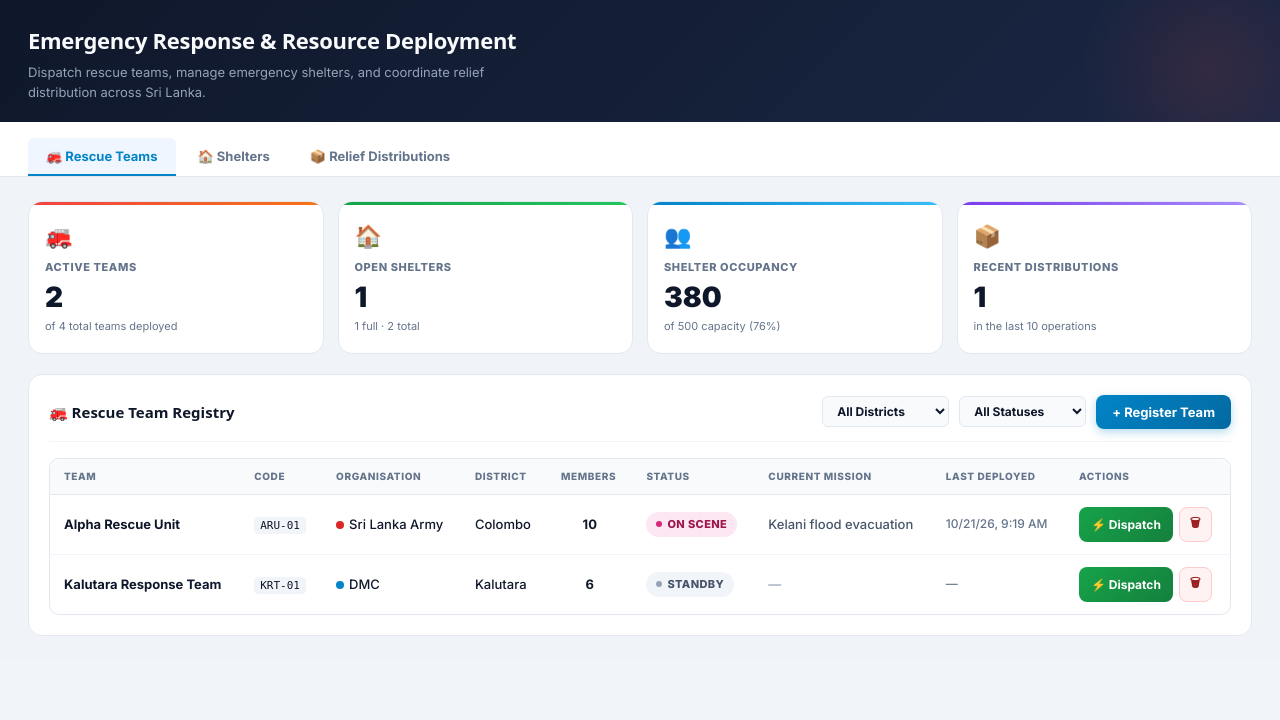
Test: EmergencyCoordinationDashboard – Filters & Empty States › TC-EC-13: Filter by district hides non-matching teams
This screenshot has width=1280, height=720.
Check: the text "Alpha Rescue Unit" is shown, box [50,494,240,554]
# Select a district that only one team belongs to
Step 1. Select "Colombo" in the 1st dropdown → (886, 412), box [822,396,949,427]
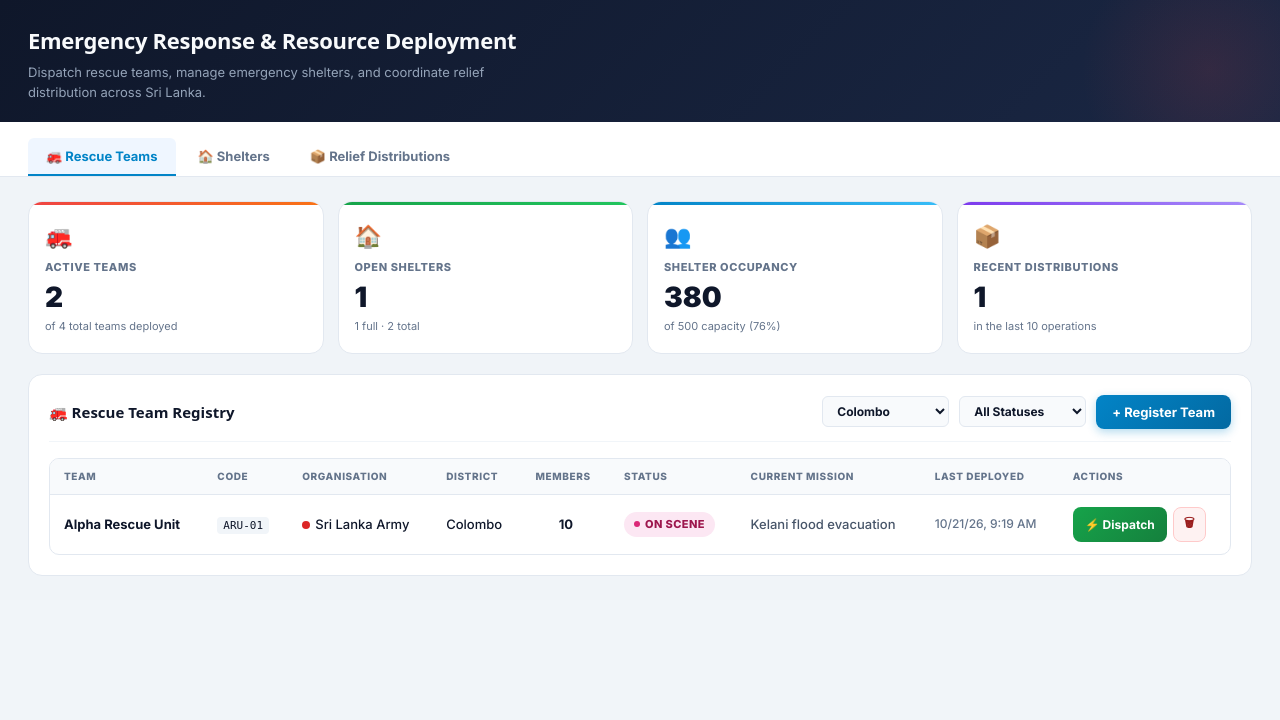
Check: the text "Alpha Rescue Unit" is shown, box [50,494,203,554]
Check: the text "Kalutara Response Team" is gone
